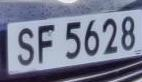2: (101, 14, 120, 58)
5: (63, 15, 84, 66)
6: (82, 15, 101, 59)
8: (119, 13, 137, 56)
F: (34, 21, 57, 67)
S: (15, 23, 37, 69)
